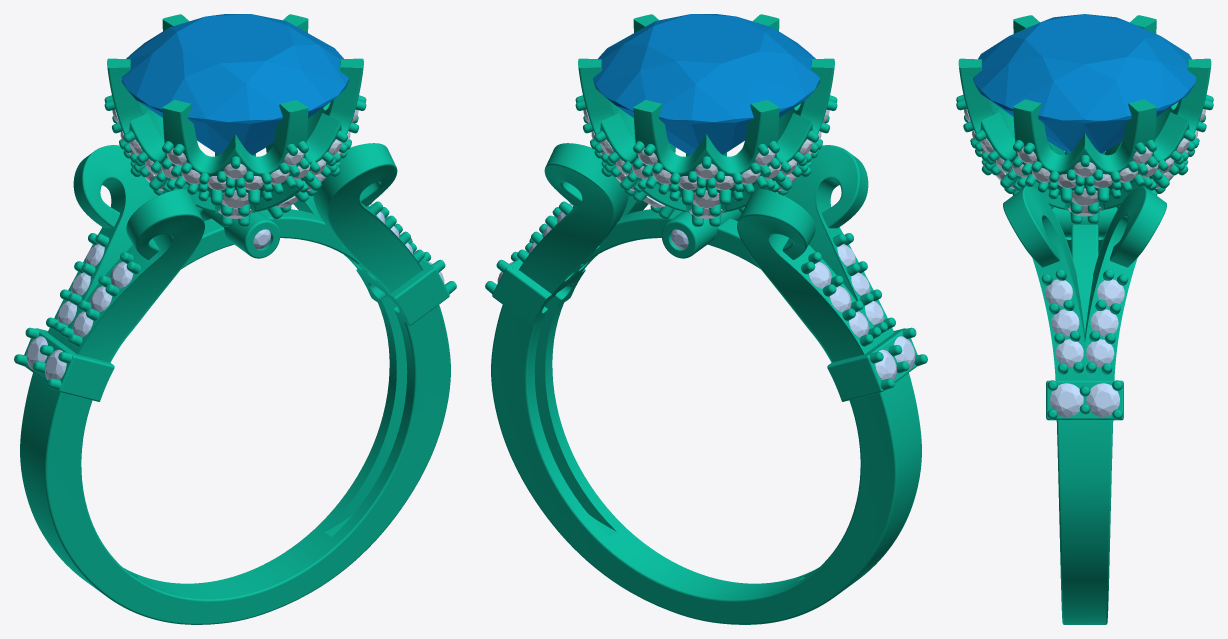
3 renders of one model, left to right at view 1: azimuth 30°, elevation 25°; view 2: azimuth 150°, elevation 25°; view 3: azimuth 270°, elevation 25°, orthographic.
Parts seen in each view (by area): view 1: ja0656.3dm, Diamond_Round; view 2: ja0656.3dm, Diamond_Round; view 3: ja0656.3dm, Diamond_Round, GemOnCrv (×8).
Boxes of the visible parts, left/top/right/bottom form: ja0656.3dm: left=20, top=14, right=450, bottom=624; Diamond_Round: left=121, top=14, right=349, bottom=155; ja0656.3dm: left=491, top=14, right=921, bottom=624; Diamond_Round: left=593, top=14, right=819, bottom=155; ja0656.3dm: left=958, top=15, right=1211, bottom=624; Diamond_Round: left=973, top=14, right=1196, bottom=153; GemOnCrv (×8): left=1045, top=279, right=1124, bottom=416.
Size of the model in its own units: 2.27 by 3.04 by 1.26.
